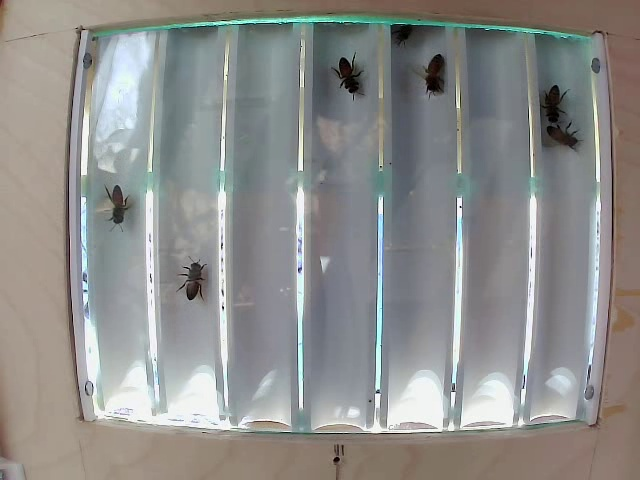bee: (172, 259, 216, 315), (328, 47, 364, 109), (418, 54, 454, 104), (95, 186, 140, 224), (548, 112, 585, 154), (543, 78, 562, 123)
